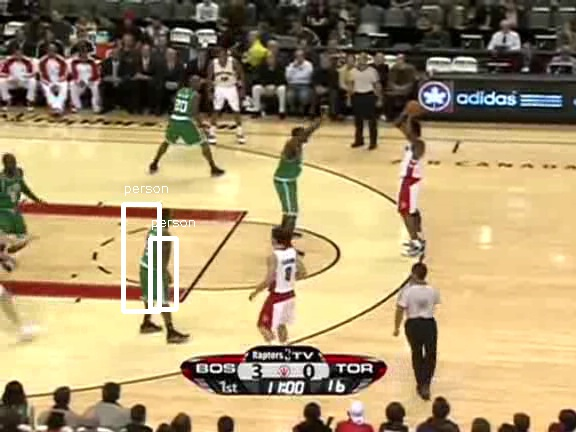person: (138, 225, 172, 306), (137, 225, 171, 306), (139, 225, 173, 306), (138, 224, 172, 305), (138, 226, 172, 307)
target_negative: (386, 256, 571, 385), (452, 58, 533, 297), (69, 211, 248, 247), (21, 129, 57, 242), (145, 67, 158, 343), (276, 376, 545, 379)
